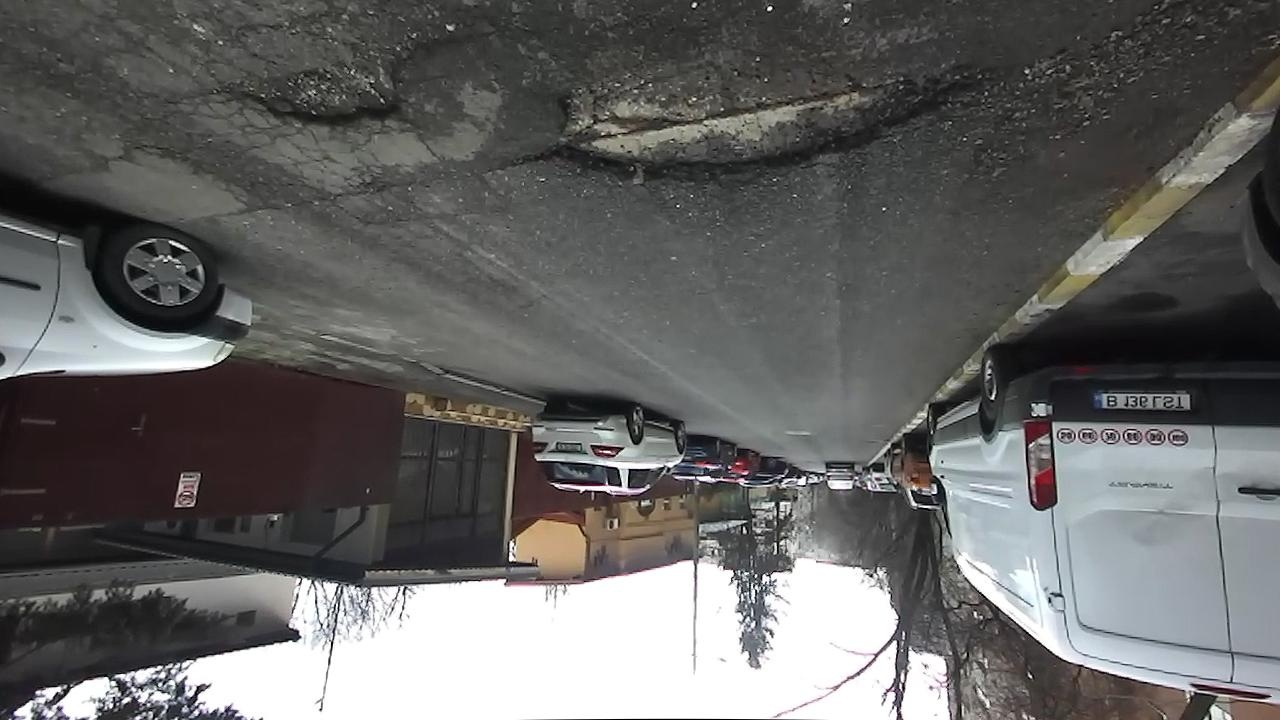pothole: (520, 51, 1003, 193), (215, 36, 427, 130)
